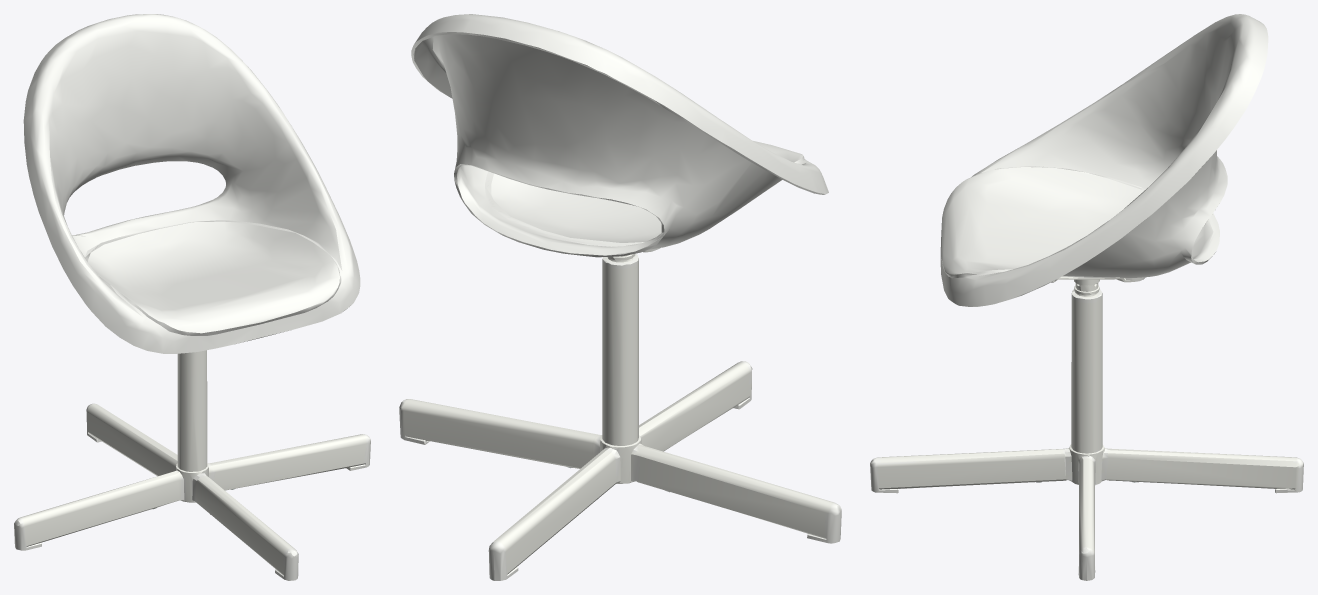
Rendered from loberget_sibben_childs_desk_chair_white.glb.
The picture shows the model from 3 angles, left to right: view 1: azimuth 30°, elevation 25°; view 2: azimuth 150°, elevation 25°; view 3: azimuth 270°, elevation 25°; orthographic projection. The views are drawn at different scales.
Visible parts, largest first — view 1: ProcessedMeshNode; view 2: ProcessedMeshNode; view 3: ProcessedMeshNode.
Boxes of the visible parts, x1,y1,x2,y2 form: ProcessedMeshNode: (14, 14, 370, 580); ProcessedMeshNode: (399, 14, 841, 580); ProcessedMeshNode: (870, 14, 1303, 580).
Size of the model in its own units: 0.5564 by 0.6451 by 0.5561.
Materials: 1 (1 with a texture image).
